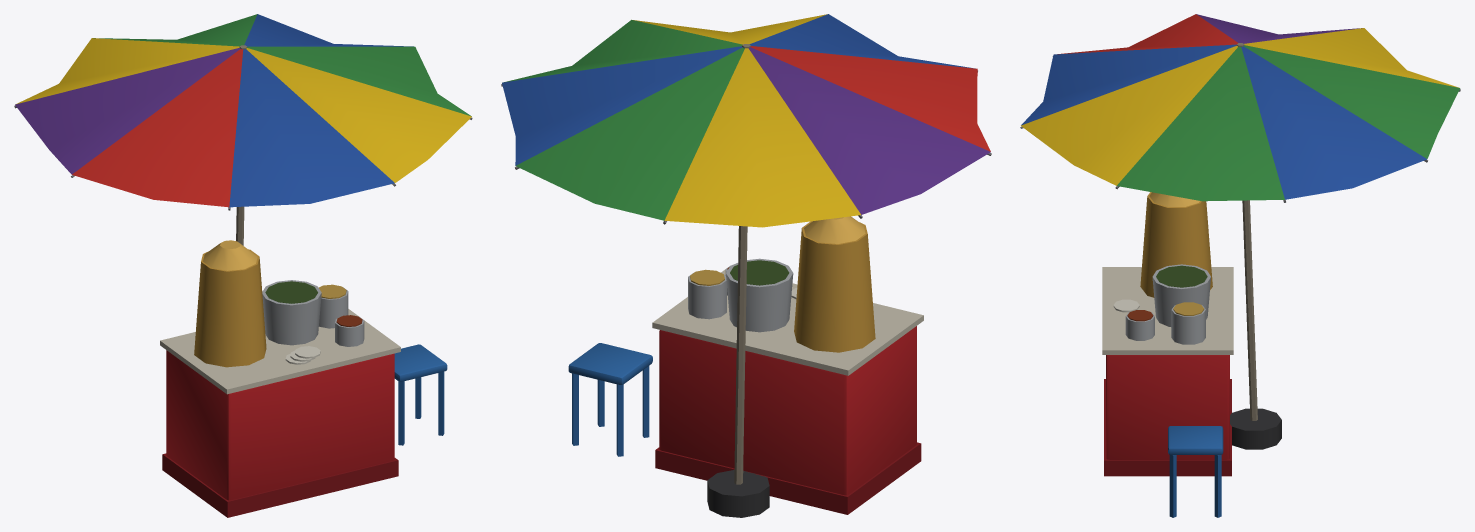
The model's file is stall.glb.
3 renders of one model, left to right at view 1: azimuth 30°, elevation 25°; view 2: azimuth 150°, elevation 25°; view 3: azimuth 270°, elevation 25°, orthographic. The views are drawn at different scales.
Visible parts, largest first — view 1: body; view 2: body; view 3: body.
Part boxes in pixels (left/top/right/bottom): body: left=14, top=14, right=472, bottom=517; body: left=501, top=14, right=991, bottom=517; body: left=1020, top=14, right=1460, bottom=517.
Bounding box in the file's own units: 2.55 × 2.52 × 2.55.
